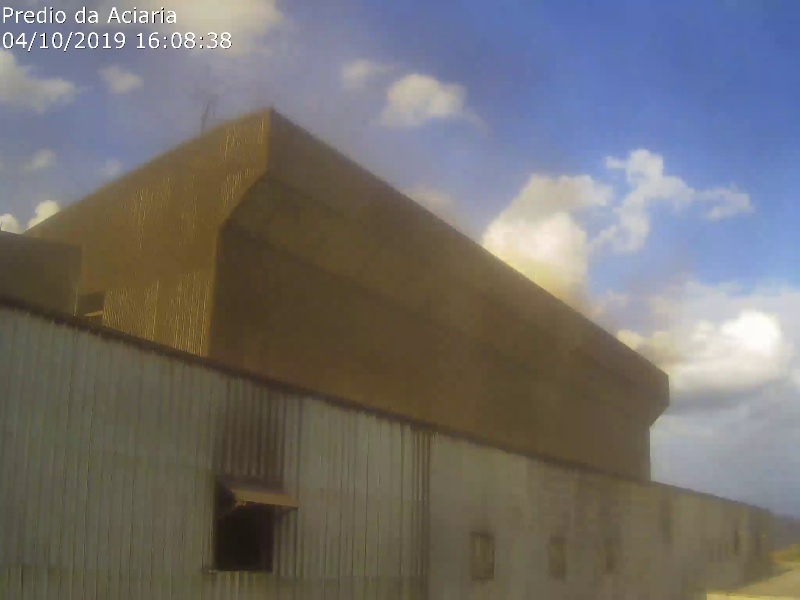pessimo: (164, 7, 619, 465)
